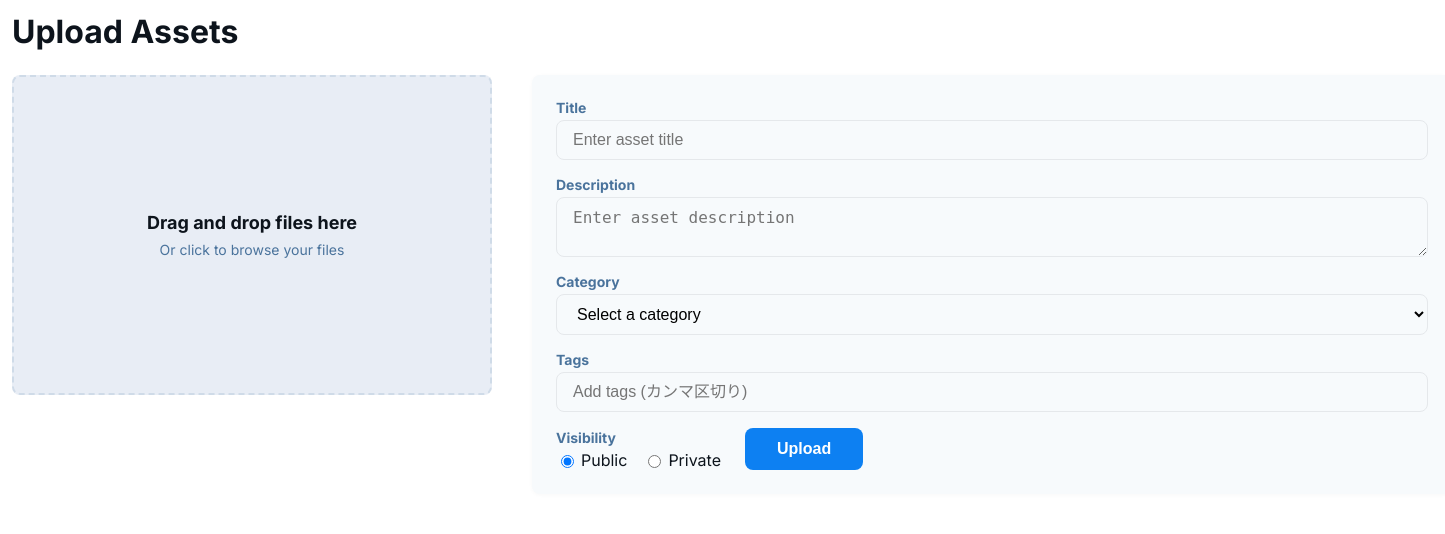
Test: Upload page › バリデーション: ファイル・タイトル・カテゴリが必須
Click the button "Upload": (804, 449) [745,428,863,470]
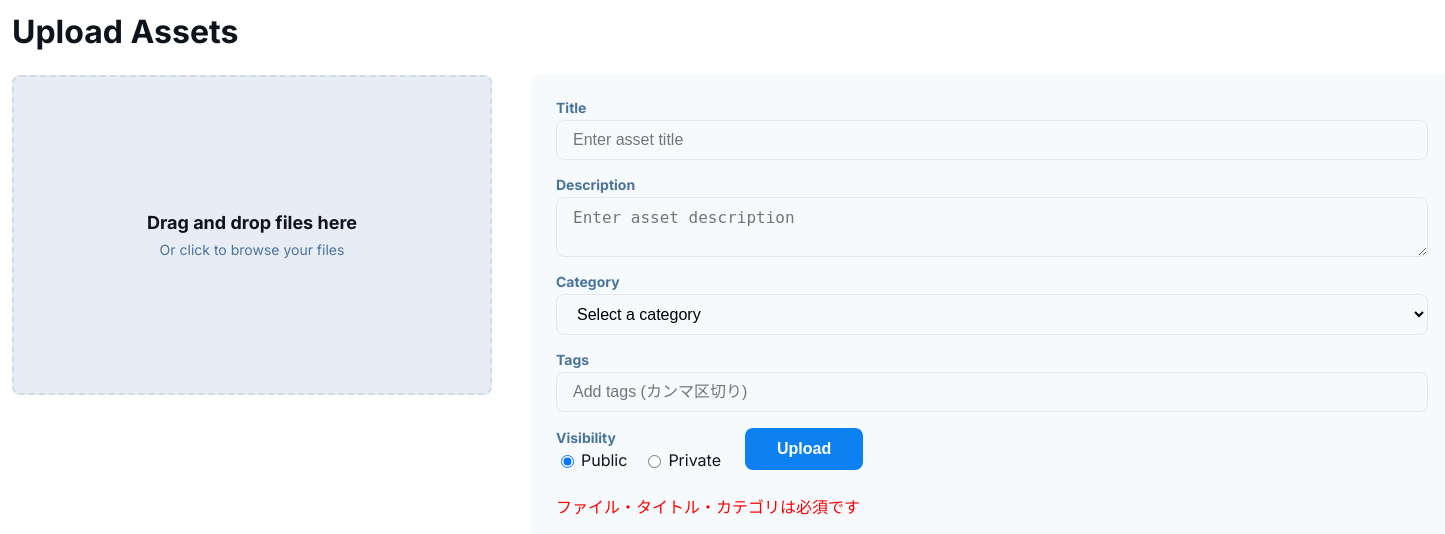
Check: the text "ファイル・タイトル・カテゴリは必須です" is shown, box [556,497,860,517]
